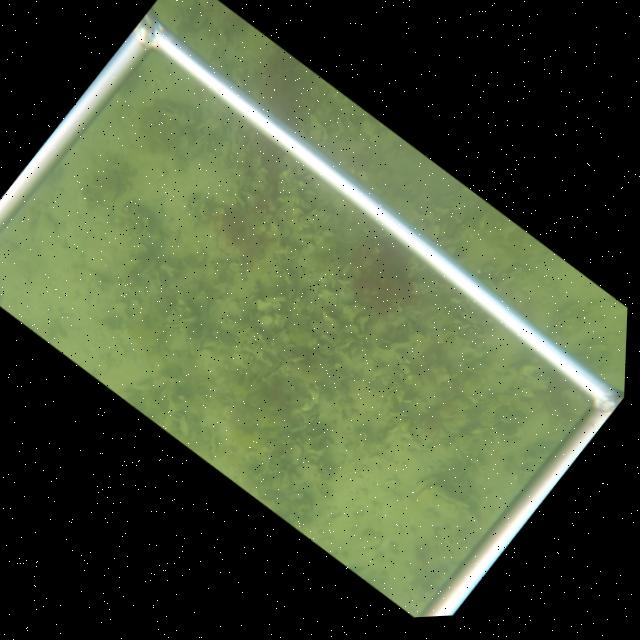Oyster-Closed: (342, 263, 353, 277), (336, 276, 355, 284), (199, 327, 208, 342)
Oyster-Open: (234, 323, 254, 335), (270, 221, 281, 235), (286, 286, 295, 299)
